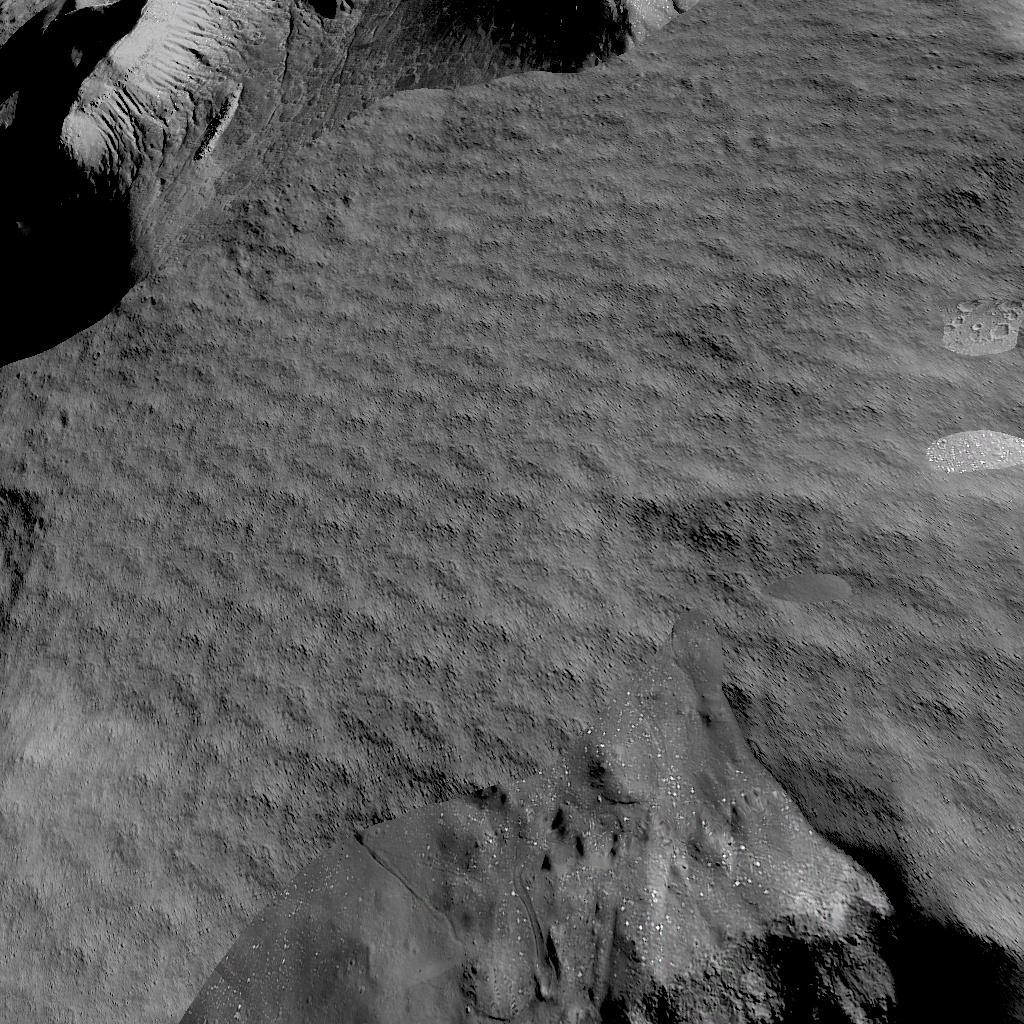Boulders: (0, 0, 698, 363)
Crater: (201, 792, 1024, 1024)
Plan surface: (0, 378, 1024, 778), (716, 0, 1024, 365), (0, 792, 191, 1024)
